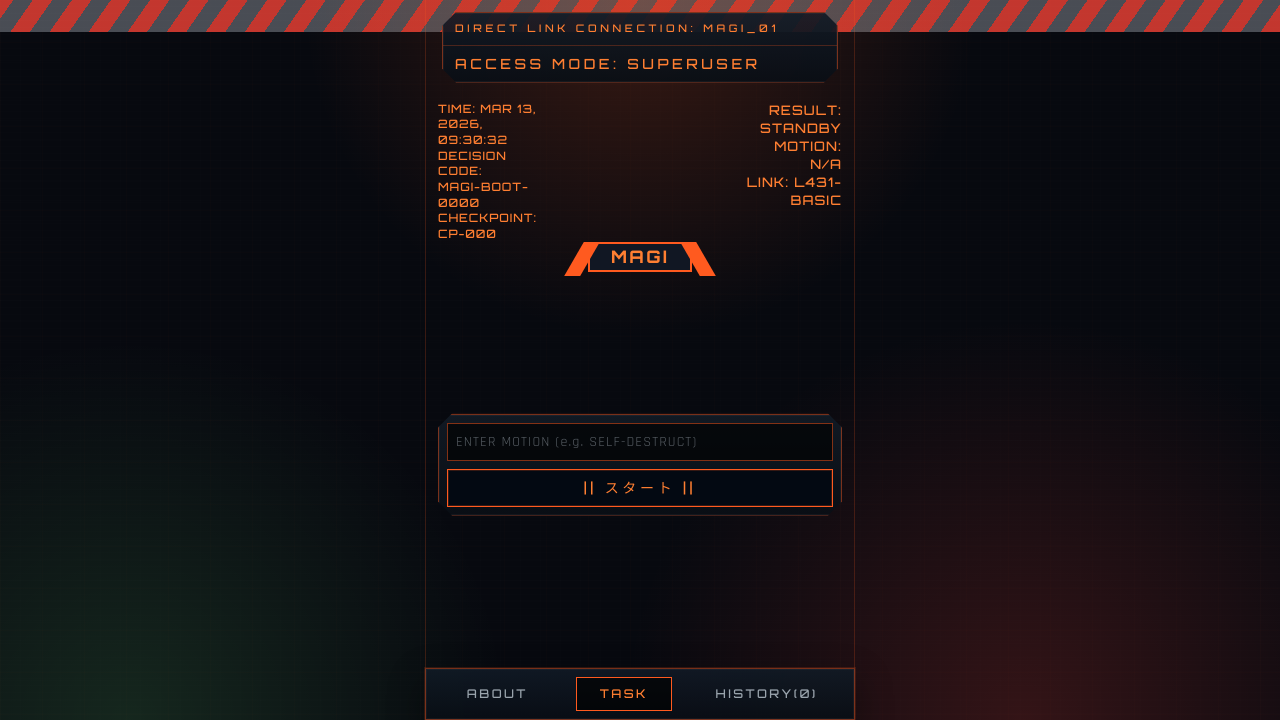
Test: App › ignores malformed history payload from localStorage
Click the button "History(0)" at (767, 694), box x1=703 y1=677 x2=831 y2=711
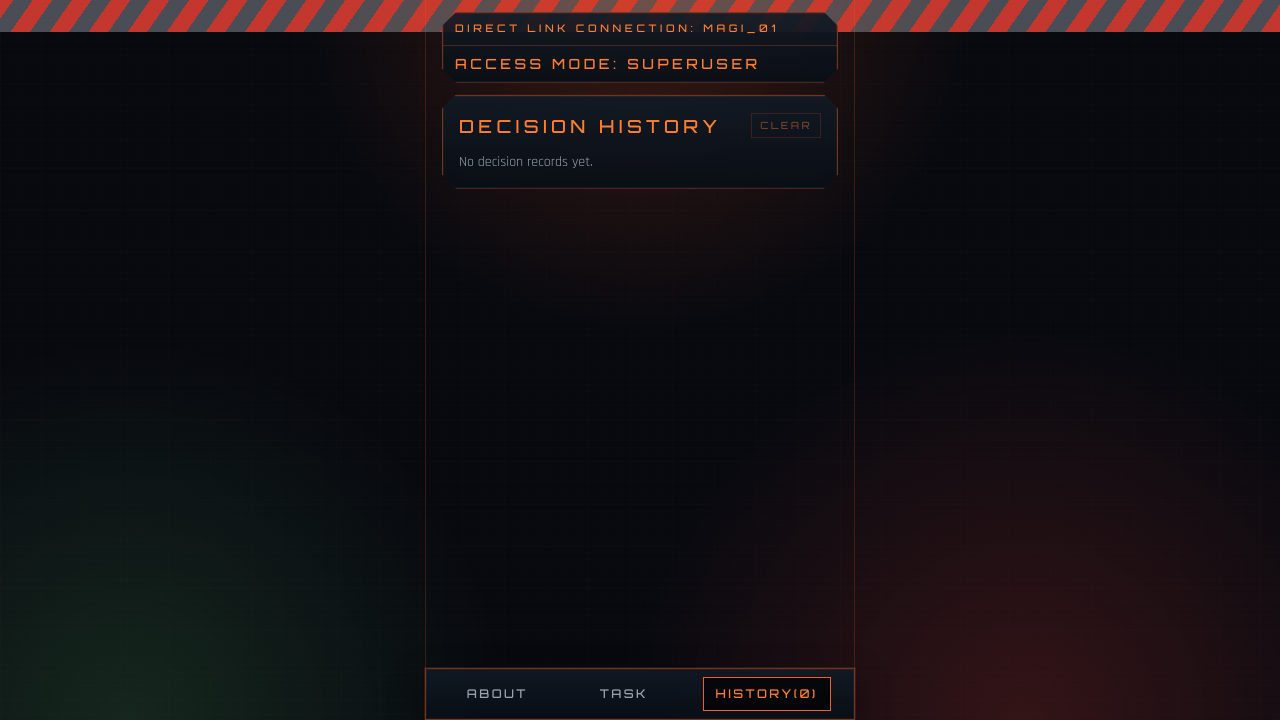
Now the text "No decision records yet." is shown, box x1=459 y1=153 x2=593 y2=171
